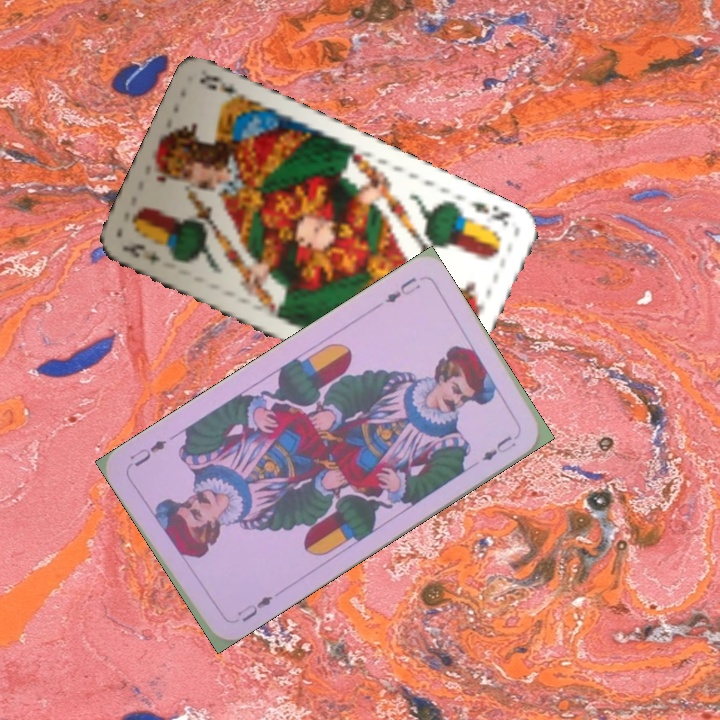EK: (467, 197, 513, 229), (119, 239, 163, 266)
EU: (233, 591, 276, 625), (381, 272, 423, 306)
